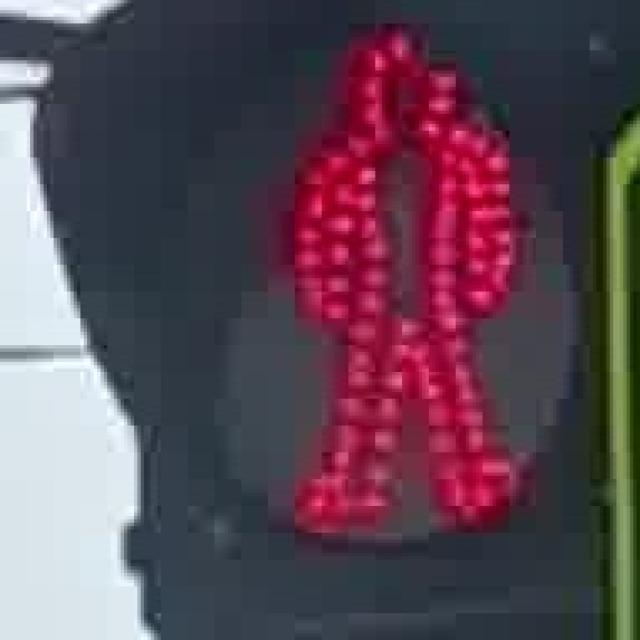red-crossing: (231, 10, 536, 543)
